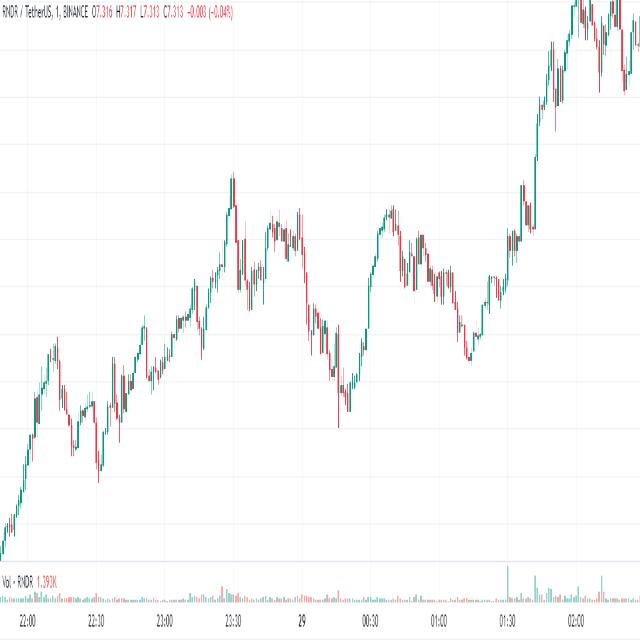Inverse-Head-Shoulders: (423, 224, 514, 378)
